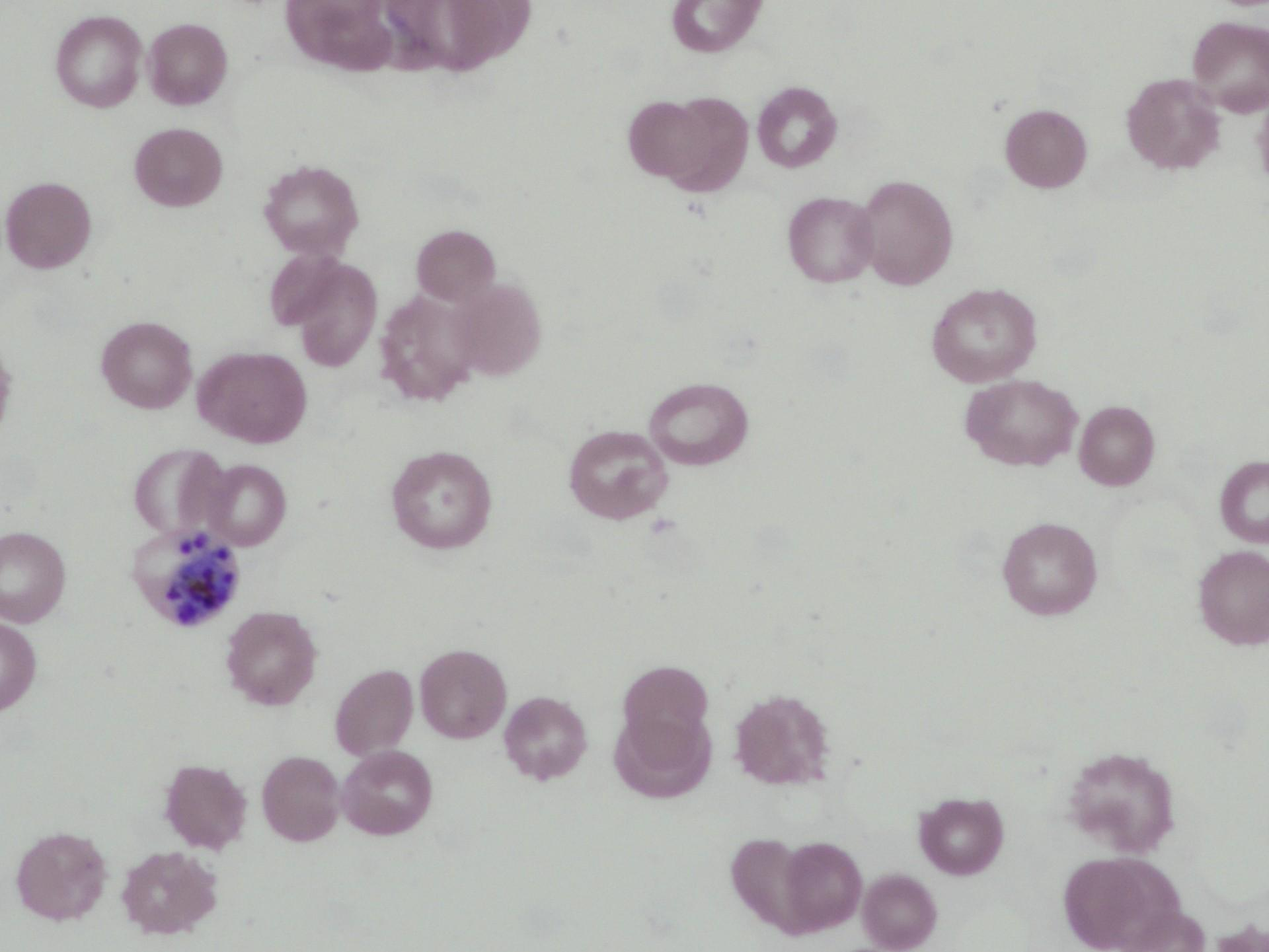Infected: (133, 528, 238, 627)
Uninfected: (1065, 858, 1192, 949), (629, 99, 744, 193), (857, 184, 955, 291), (1069, 755, 1174, 852), (198, 353, 304, 445), (965, 379, 1075, 466), (392, 1, 525, 72), (380, 297, 474, 396), (393, 454, 491, 548), (933, 289, 1035, 379), (570, 431, 666, 519), (451, 285, 542, 377), (1003, 525, 1095, 614), (224, 614, 314, 704), (1128, 80, 1220, 168), (263, 166, 358, 250), (735, 698, 827, 784), (339, 751, 432, 836), (101, 322, 192, 408), (650, 384, 746, 465), (287, 1, 396, 72), (122, 852, 215, 935), (784, 201, 872, 288), (420, 651, 506, 738), (17, 836, 104, 922), (57, 18, 142, 106), (134, 449, 220, 535), (6, 184, 91, 270), (297, 272, 375, 365), (165, 766, 249, 852), (613, 723, 707, 798), (135, 129, 223, 207), (205, 465, 287, 548), (779, 845, 859, 930), (504, 698, 586, 780), (335, 671, 415, 755), (621, 667, 707, 745), (147, 24, 228, 105), (732, 840, 806, 928), (261, 758, 339, 841), (1194, 23, 1269, 108), (1005, 110, 1086, 187), (920, 799, 1003, 873), (758, 89, 837, 166), (1079, 407, 1155, 486), (1200, 553, 1269, 640), (416, 230, 498, 301), (861, 875, 936, 950), (0, 534, 63, 622), (272, 252, 344, 324), (673, 1, 761, 51), (1222, 462, 1269, 540)
